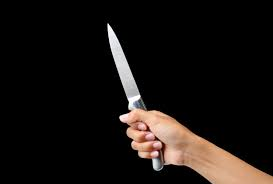knife: (100, 17, 169, 171)
